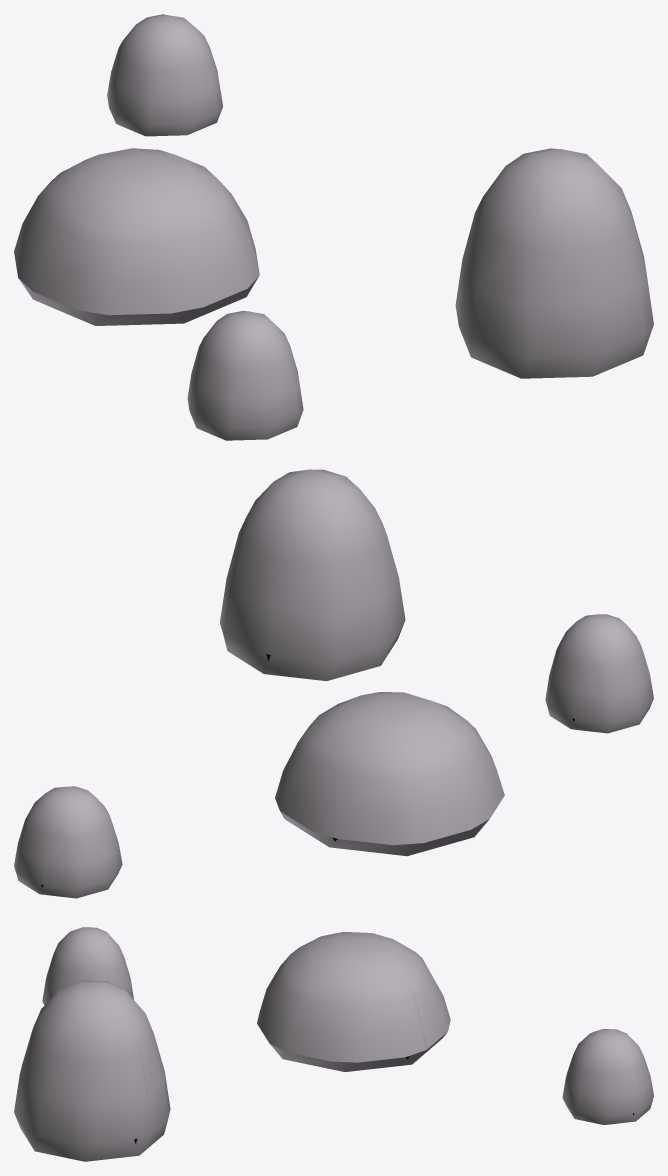
The model's file is rock.obj.
3 views of the same model, one above another, from view 1: azimuth 30°, elevation 25°; view 2: azimuth 150°, elevation 25°; view 3: azimuth 270°, elevation 25° (orthographic). The views are drawn at different scales.
Visible parts, largest first — view 1: Cube.005_Cube.006; view 2: Cube.005_Cube.006; view 3: Cube.005_Cube.006.
Part boxes in pixels (x1=…): Cube.005_Cube.006: x1=14, y1=14, x2=653, y2=440; Cube.005_Cube.006: x1=14, y1=469, x2=653, y2=898; Cube.005_Cube.006: x1=14, y1=927, x2=653, y2=1161.
Bounding box in the file's own units: 10.77 × 4.22 × 16.95.
Materials: 1 (1 with a texture image).
